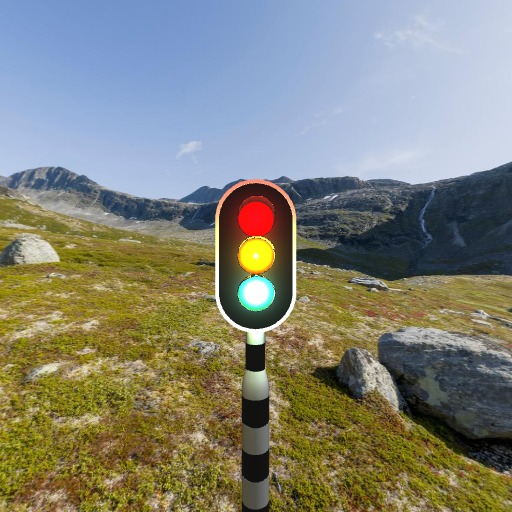All_Light: (215, 180, 299, 333)
